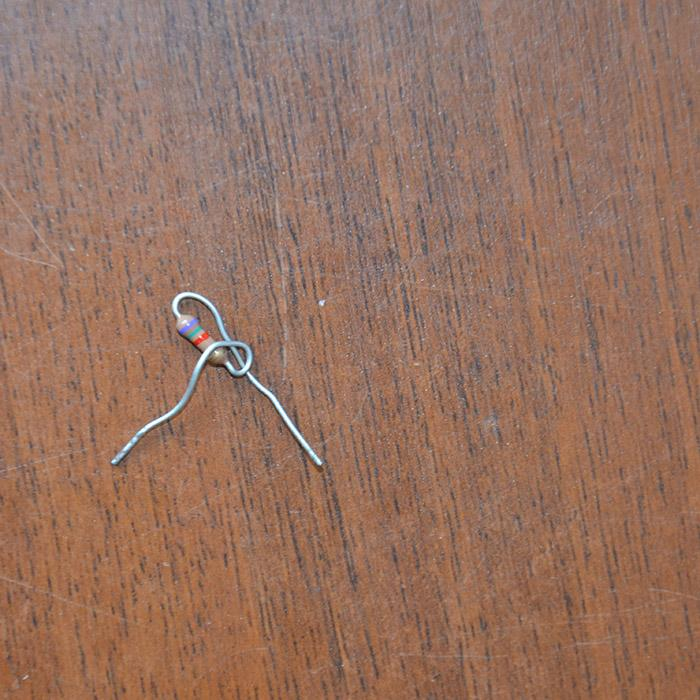resistor: (176, 312, 231, 368)
